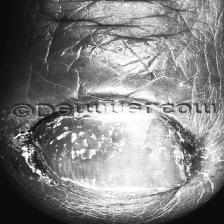Toxin: (0, 118, 220, 199)
